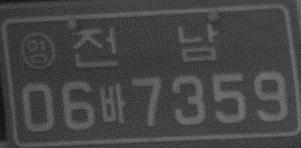0: (21, 82, 55, 134)
3: (171, 74, 206, 126)
5: (210, 71, 246, 125)
6: (60, 80, 95, 131)
7: (130, 76, 163, 127)
9: (252, 70, 288, 123)
바: (98, 83, 126, 124)
영: (19, 30, 57, 71)
전남_D: (73, 23, 217, 68)
